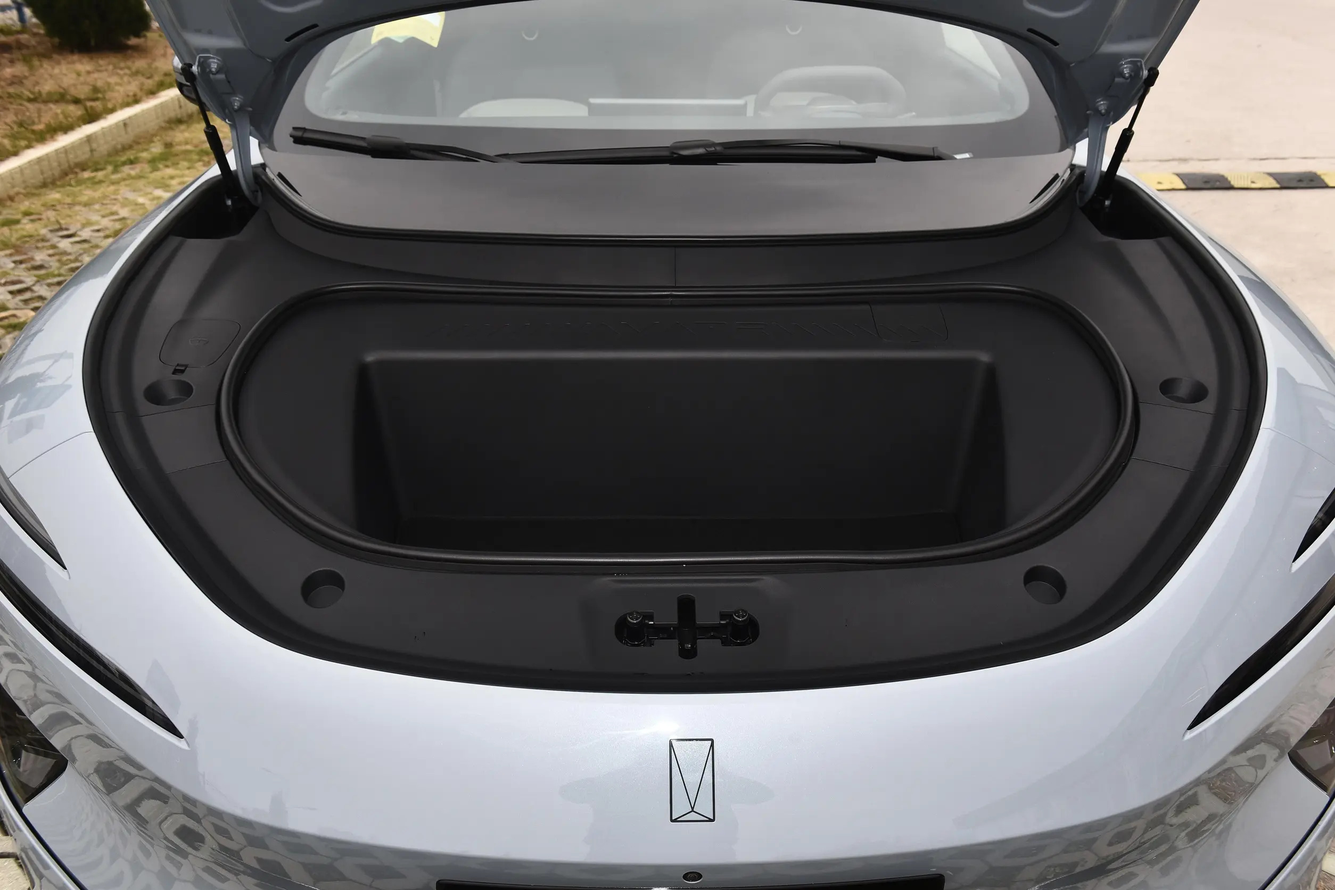AVATR: (670, 739, 715, 822)
